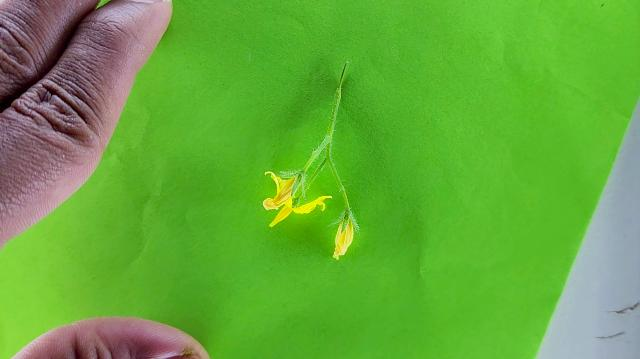Anthesis: (260, 171, 329, 230), (333, 217, 355, 261)
